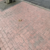zebra: (1, 1, 50, 50)
